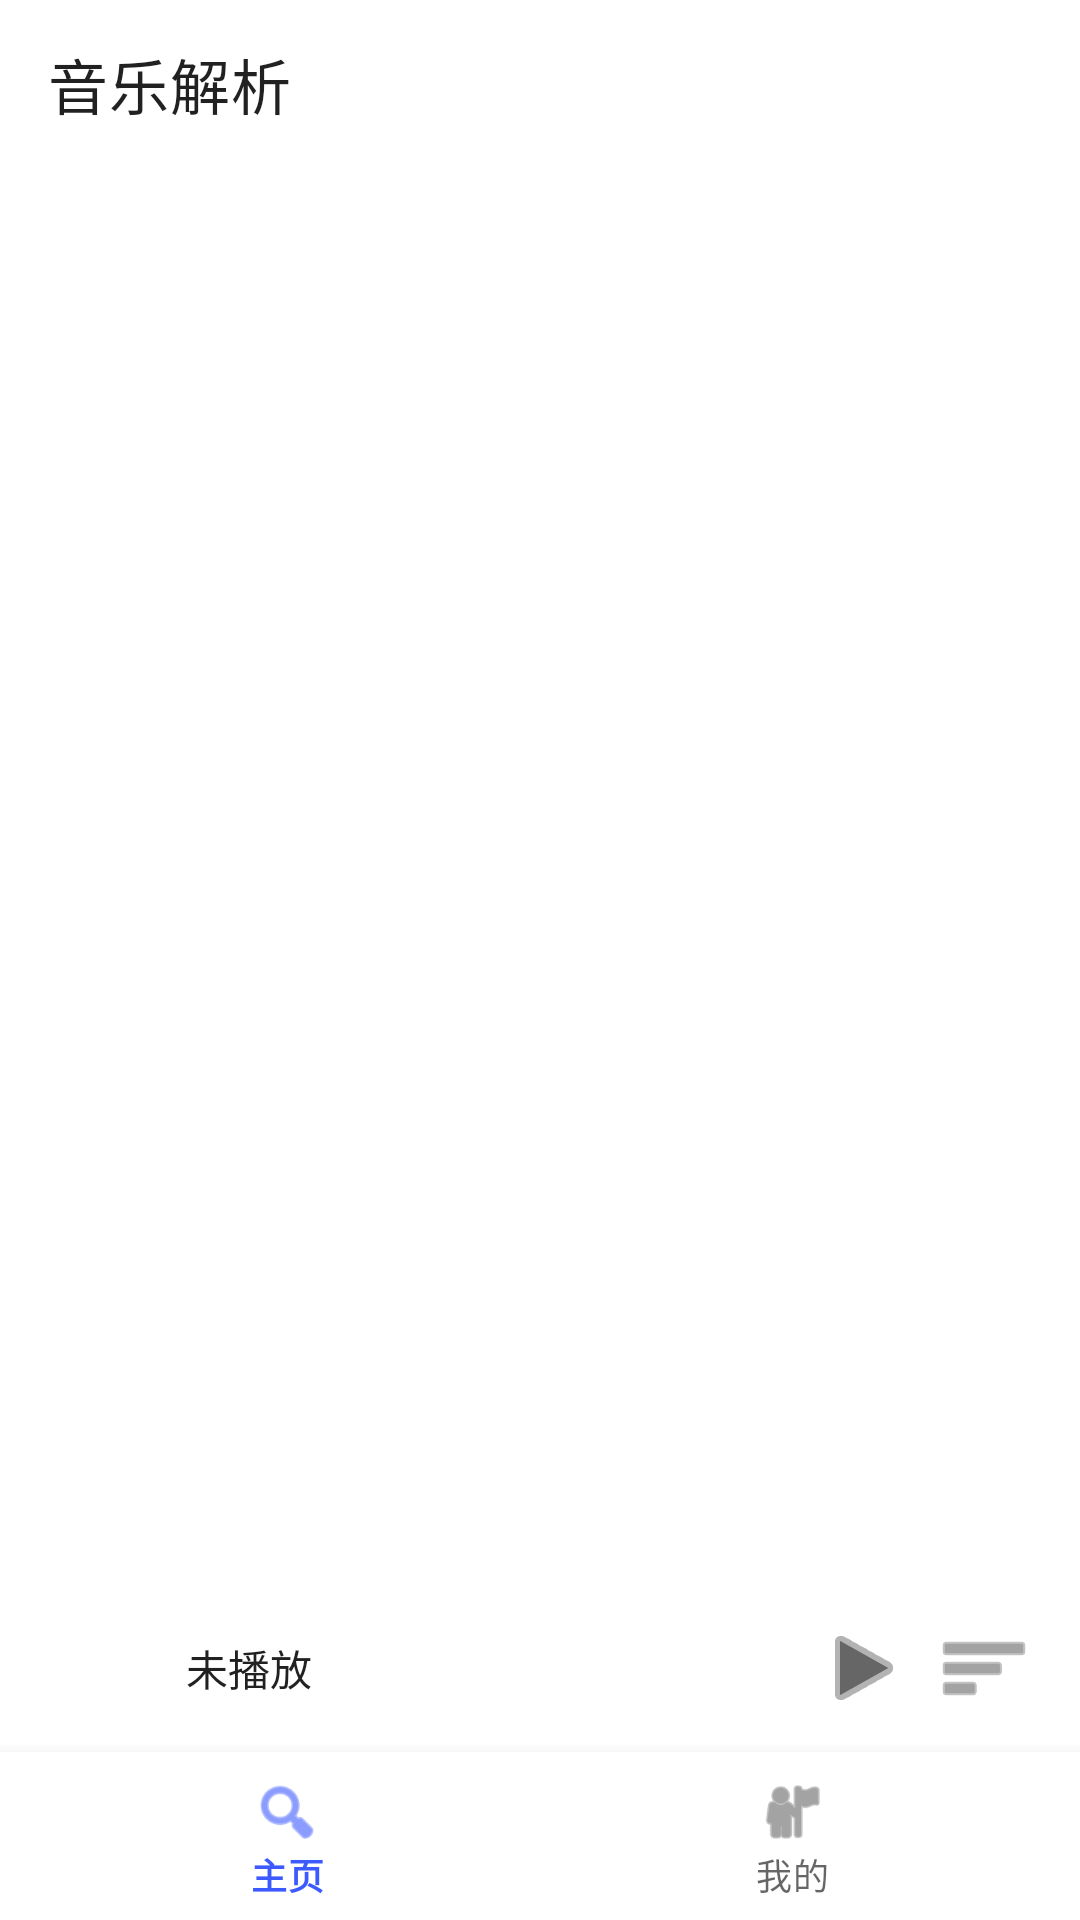

Icons on this 1080x1920 Android screen, each with the point to tap as point (x, y):
播放/暂停: point (864, 1668)
播放列表: point (984, 1668)
